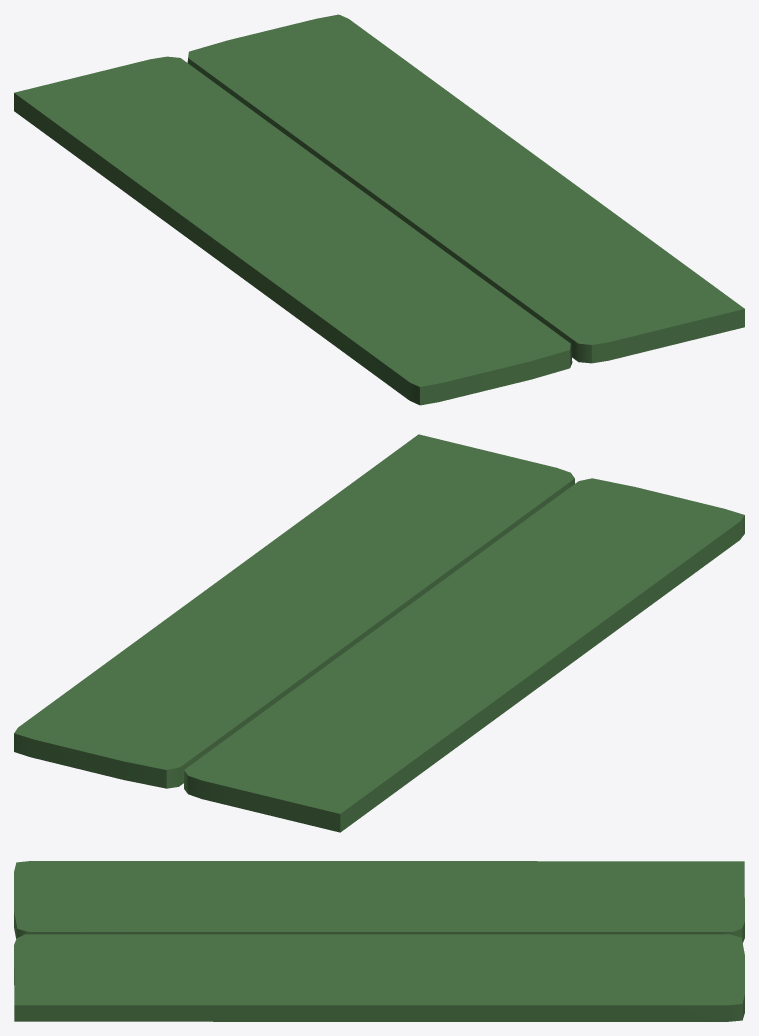
Rendered from Shelf_Grp_05A_Lod0.fbx.
3 views of the same model, one above another, from view 1: azimuth 30°, elevation 25°; view 2: azimuth 150°, elevation 25°; view 3: azimuth 270°, elevation 25° (orthographic). The views are drawn at different scales.
Visible parts, largest first — view 1: Shelf_Grp_05A_Lod0; view 2: Shelf_Grp_05A_Lod0; view 3: Shelf_Grp_05A_Lod0.
Part boxes in pixels (left/top/right/bottom): Shelf_Grp_05A_Lod0: left=14, top=14, right=744, bottom=405; Shelf_Grp_05A_Lod0: left=14, top=434, right=744, bottom=832; Shelf_Grp_05A_Lod0: left=14, top=861, right=744, bottom=1021.
Bounding box in the file's own units: 69.61 × 3.75 × 149.
